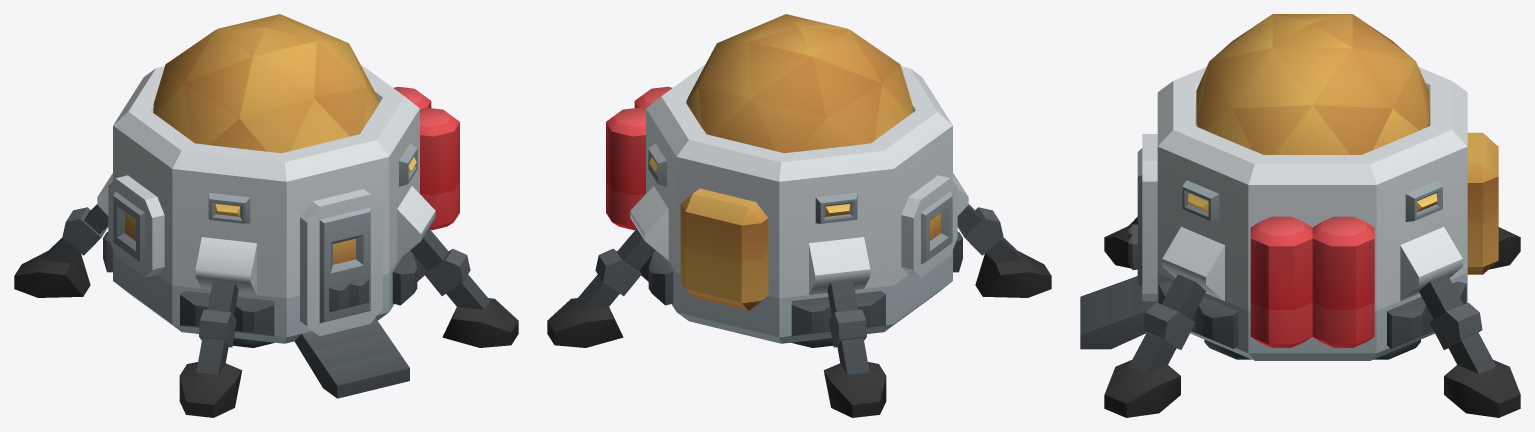
Rendered from lander_b.glb.
The picture shows the model from 3 angles, left to right: view 1: azimuth 30°, elevation 25°; view 2: azimuth 150°, elevation 25°; view 3: azimuth 270°, elevation 25°; orthographic projection. The views are drawn at different scales.
Parts seen in each view (by area): view 1: lander_B; view 2: lander_B; view 3: lander_B.
Boxes of the visible parts, x1,y1,x2,y2 form: lander_B: (14, 14, 518, 417); lander_B: (547, 14, 1051, 417); lander_B: (1080, 14, 1520, 417).
Bounding box in the file's own units: 4.12 × 3.29 × 4.27.
Materials: 1 (1 with a texture image).
